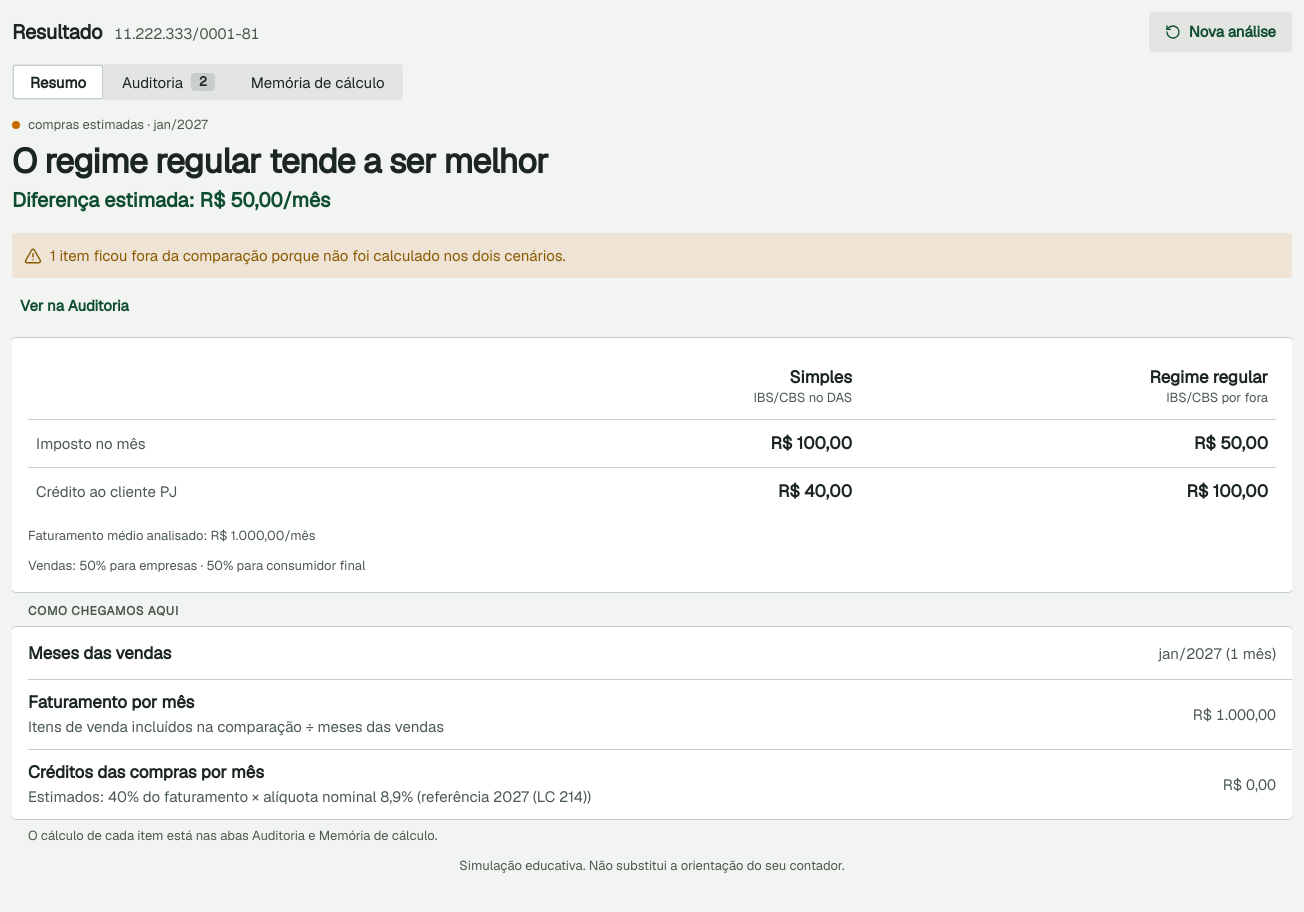
Test: Resultado › aba Memória de cálculo lista os itens com memória
Click the tab "Memória de cálculo". click: [318, 82]
box: [235,66,401,98]
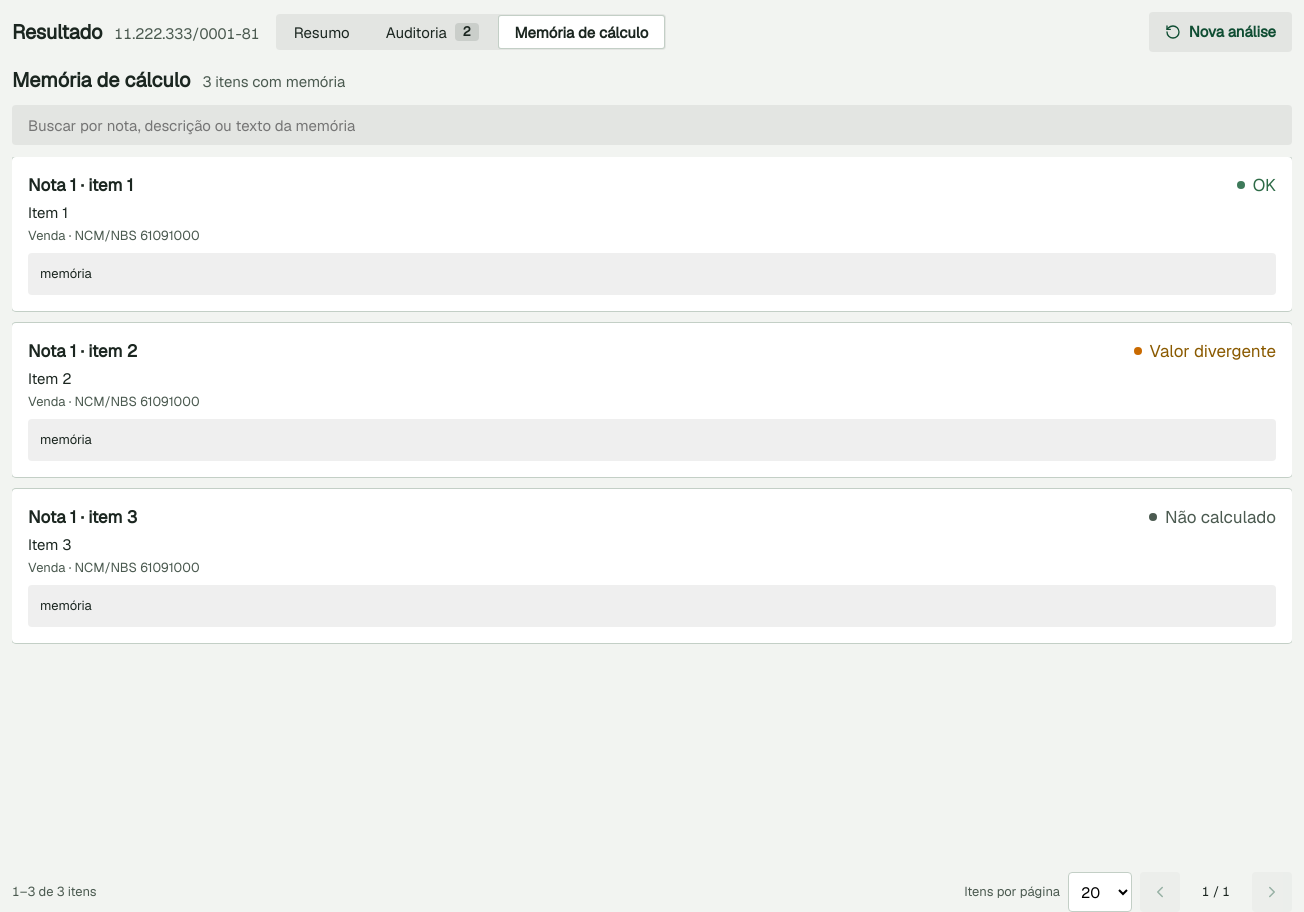
Check: the panel shows "3 itens com memória", box [202,72,345,91]
